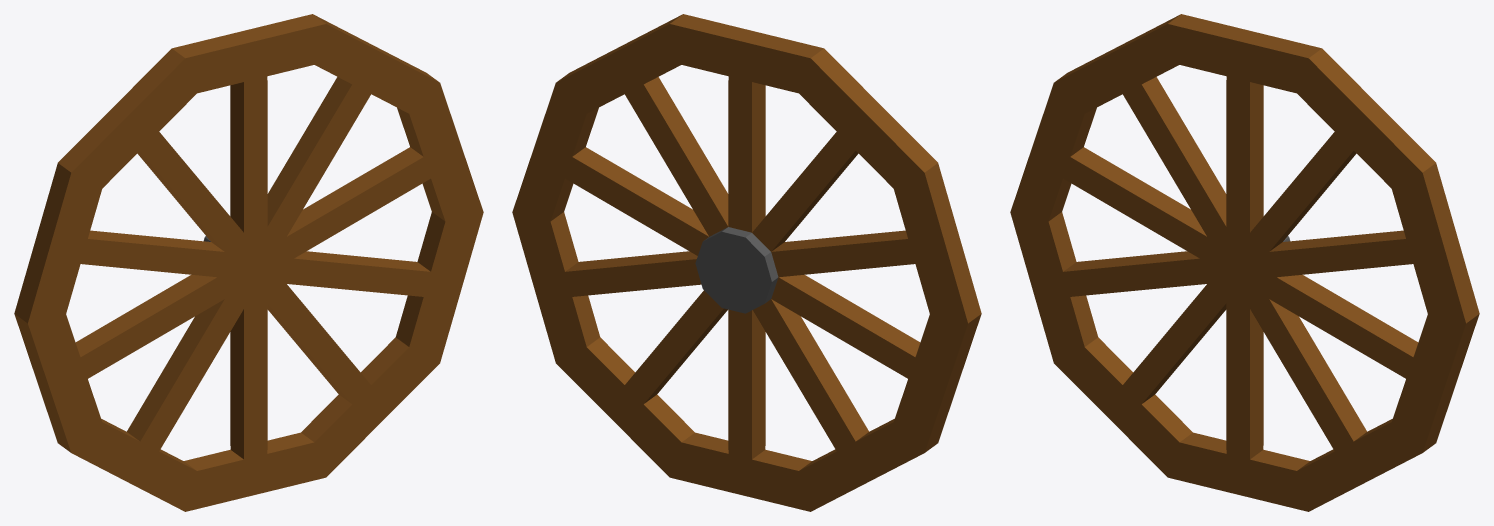
The model's file is Wheel.fbx.
3 renders of one model, left to right at view 1: azimuth 30°, elevation 25°; view 2: azimuth 150°, elevation 25°; view 3: azimuth 330°, elevation 25°, orthographic.
Visible parts, largest first — view 1: Wheel; view 2: Wheel; view 3: Wheel.
Part boxes in pixels (x1,y1,x2,y2): Wheel: [14, 14, 483, 511]; Wheel: [512, 14, 981, 511]; Wheel: [1010, 14, 1479, 511].
Bounding box in the file's own units: 3.39 × 3.23 × 0.2588.
